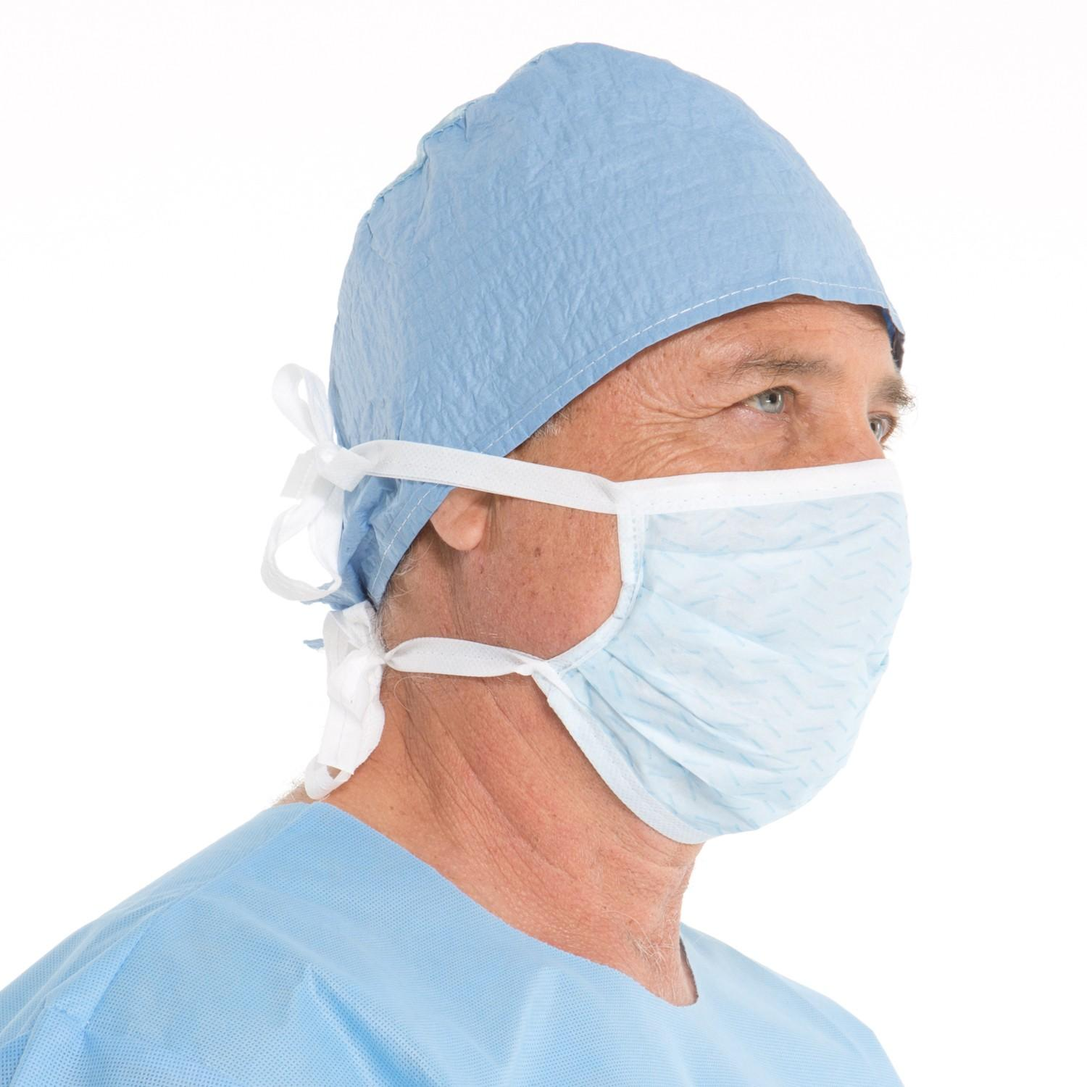Wearing Mask: (127, 17, 1027, 916)
